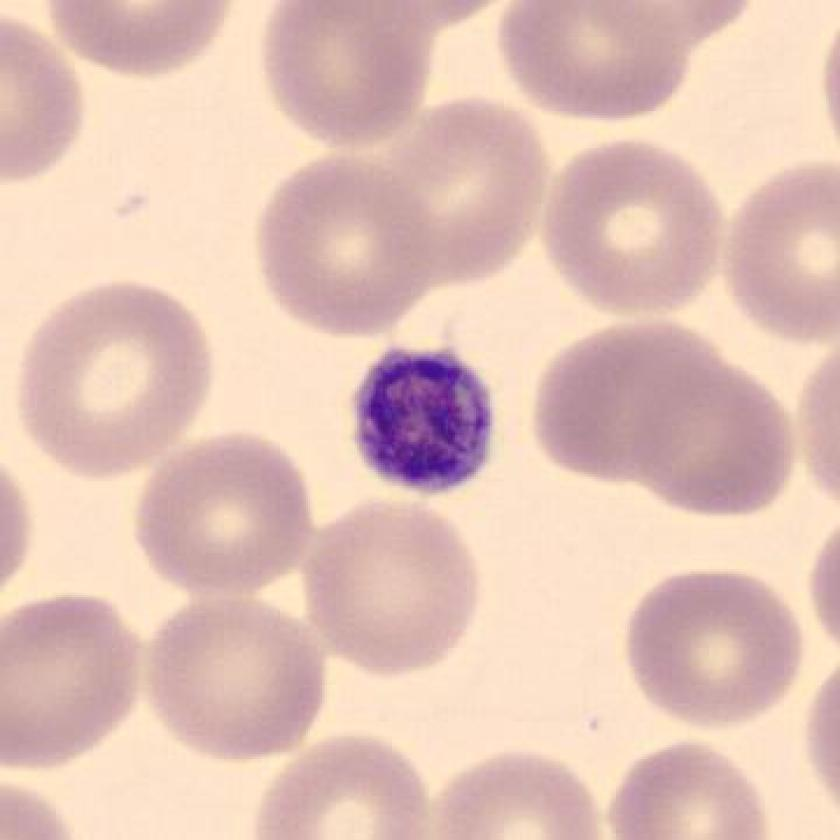platelets: (337, 332, 510, 510)
